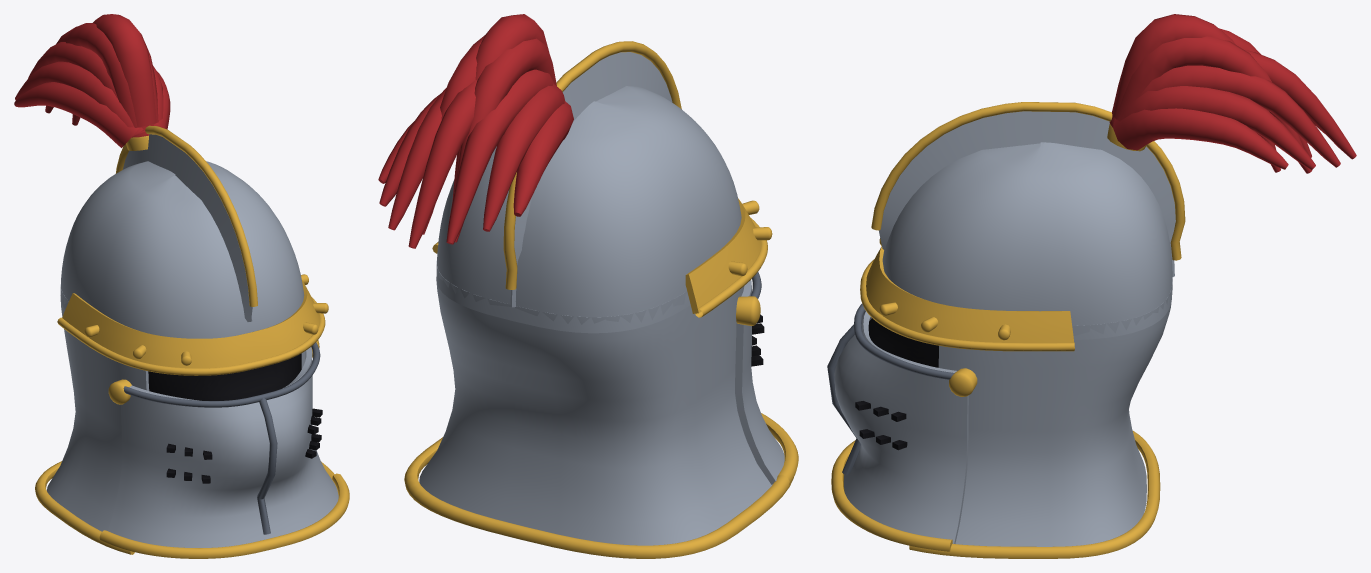
File: h_great_d.glb
3 views of the same model, side by side, from view 1: azimuth 30°, elevation 25°; view 2: azimuth 150°, elevation 25°; view 3: azimuth 270°, elevation 25° (orthographic). The views are drawn at different scales.
Visible parts, largest first — view 1: Great; view 2: Great; view 3: Great.
Part boxes in pixels (x1,y1,x2,y2): Great: [14, 14, 349, 558]; Great: [378, 14, 798, 558]; Great: [827, 14, 1356, 558].
Size of the model in its own units: 0.2912 by 0.4694 by 0.4727.
